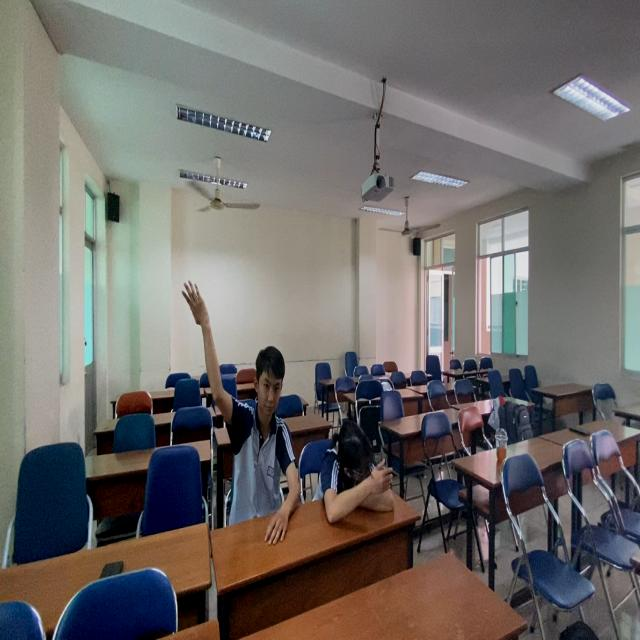raise_hand: (185, 278, 303, 525)
sleep: (314, 416, 402, 531)
